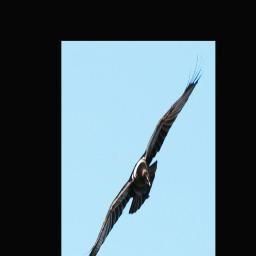Crow: (71, 50, 206, 256)
